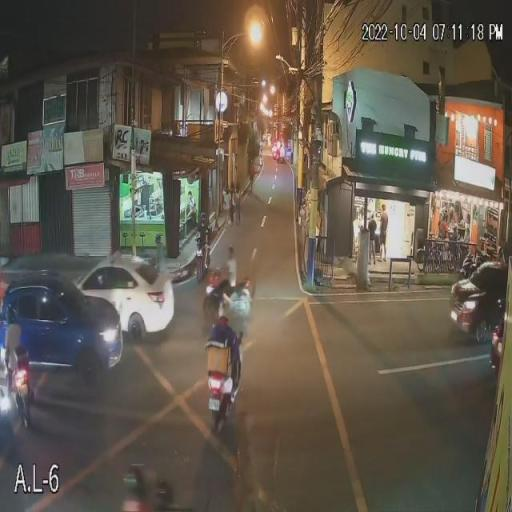helmet: (211, 311, 233, 333), (3, 305, 23, 326), (218, 244, 238, 258)
motorcycle: (207, 330, 247, 427), (1, 341, 45, 427), (192, 273, 264, 317)
rider: (205, 322, 242, 382), (3, 320, 25, 401), (212, 260, 242, 309)
